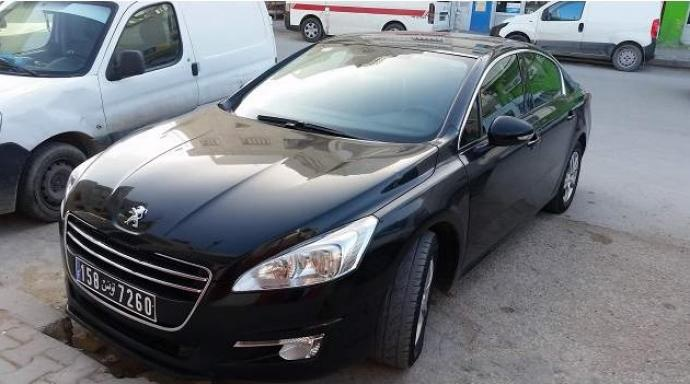LP: (73, 259, 159, 324)
